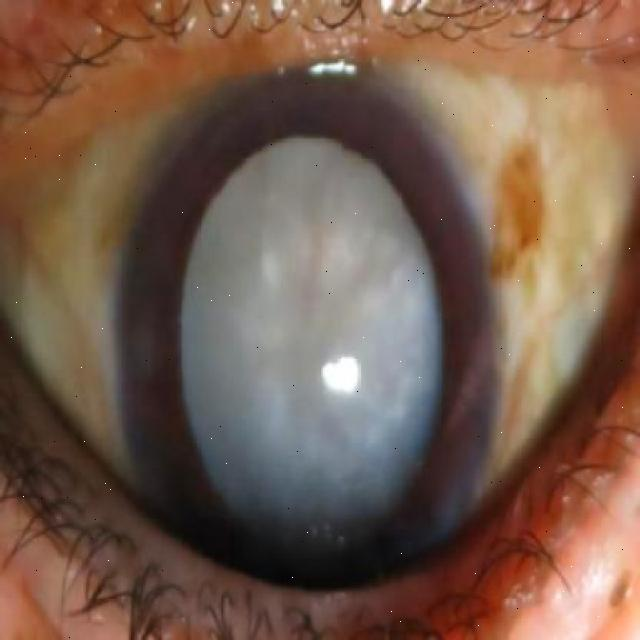Cataract: (110, 64, 495, 620)
